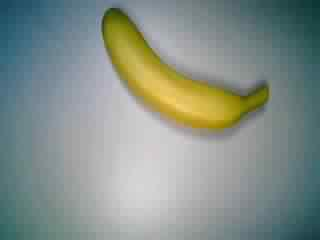banana: (98, 4, 270, 136)
